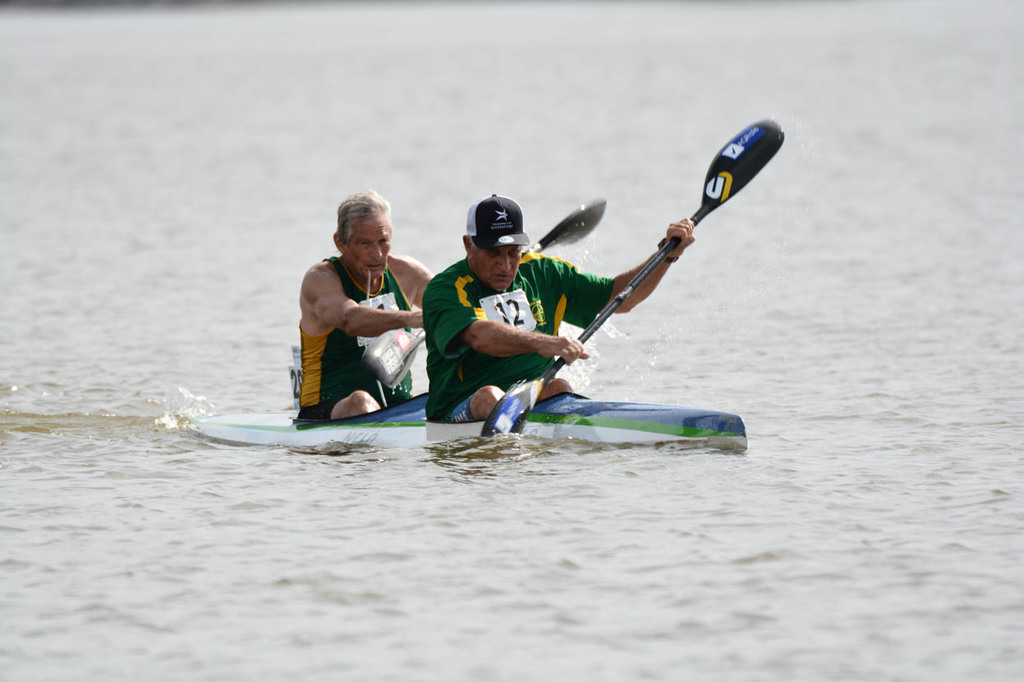Person: (420, 193, 695, 420), (298, 188, 436, 417)
